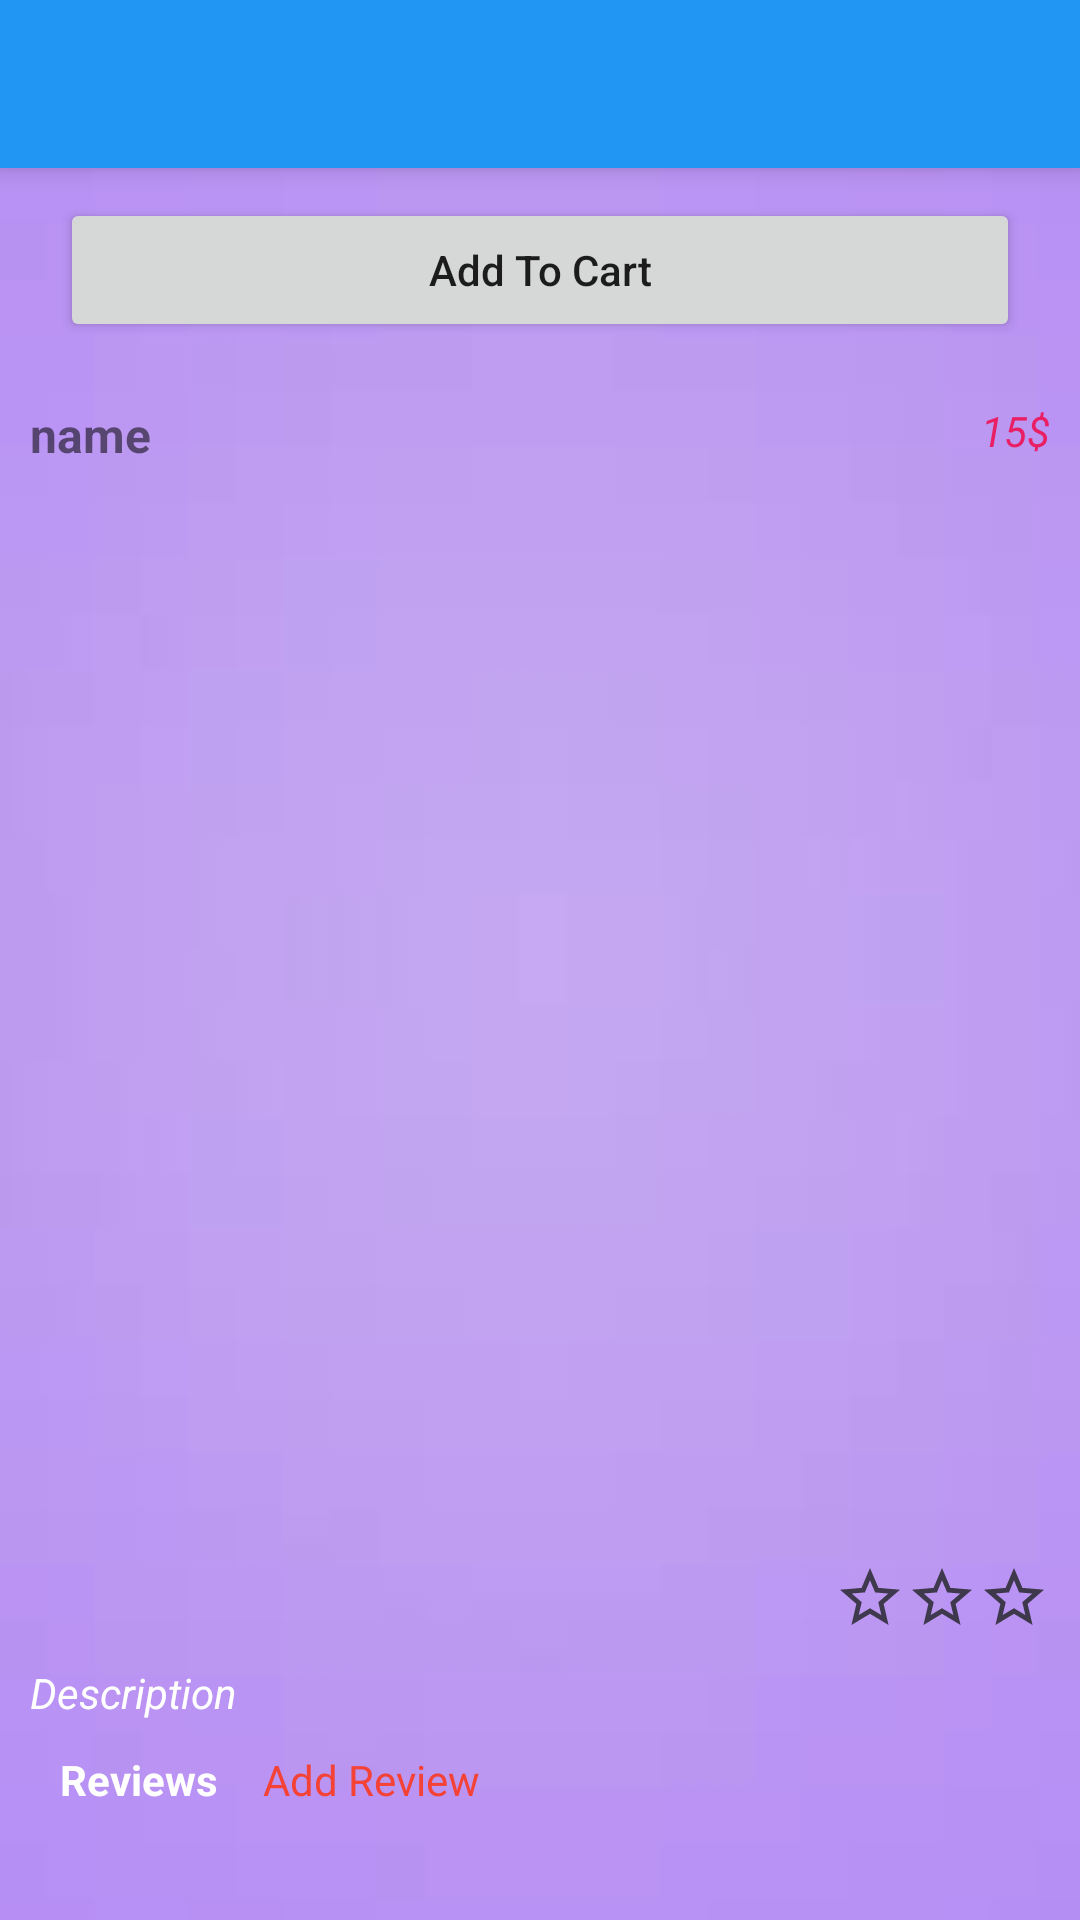

Screen size 1080px x 1920px. Icon name, then its box in pixels as bbox(x1, y1, x2, y2):
empty star: bbox(840, 1568, 900, 1625), bbox(912, 1568, 972, 1625), bbox(984, 1568, 1044, 1625)
